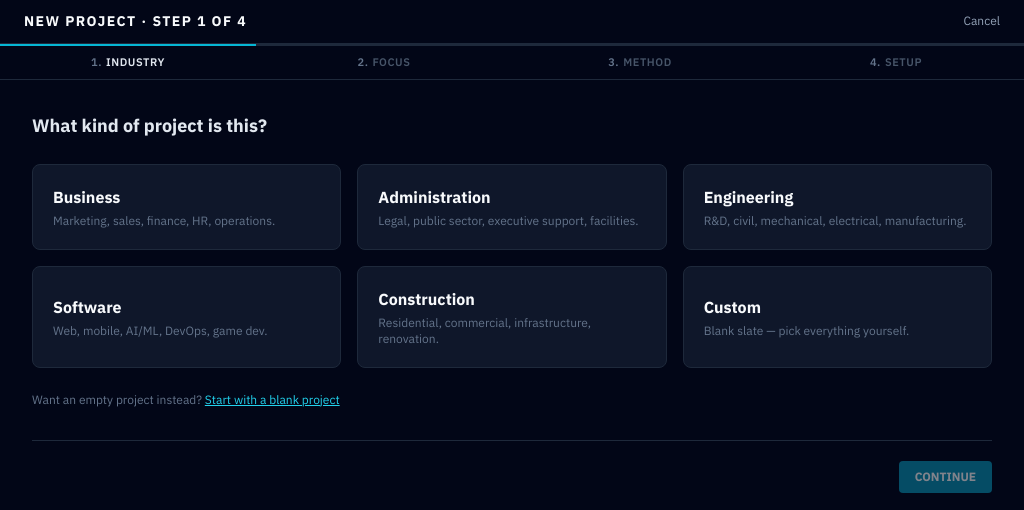
Test: ProjectLaunchpad blank project › returns to the guided setup
Step 1. Click the button "Start with a blank project" → (272, 400), box 205,392 -> 340,408
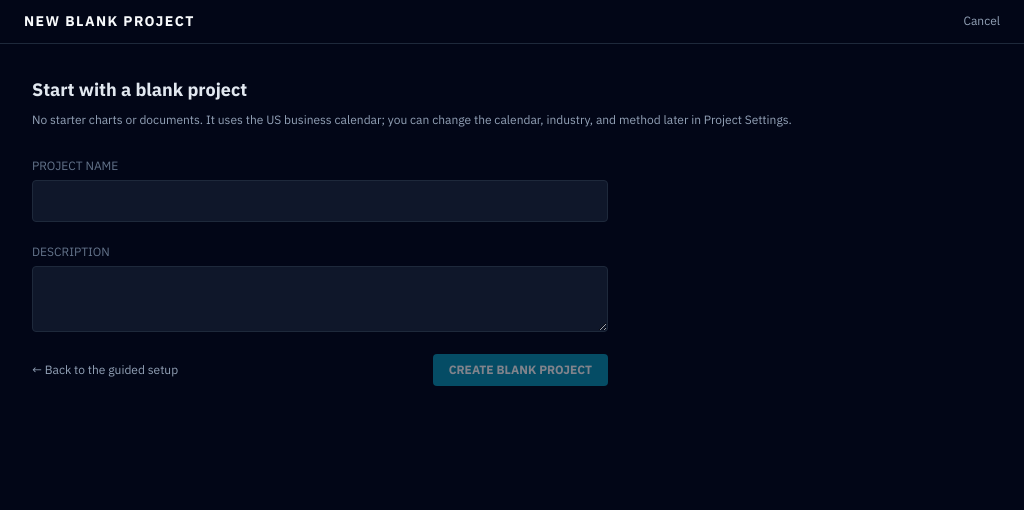
Step 2. Click the button "← Back to the guided setup" → (105, 370), box 32,362 -> 178,378
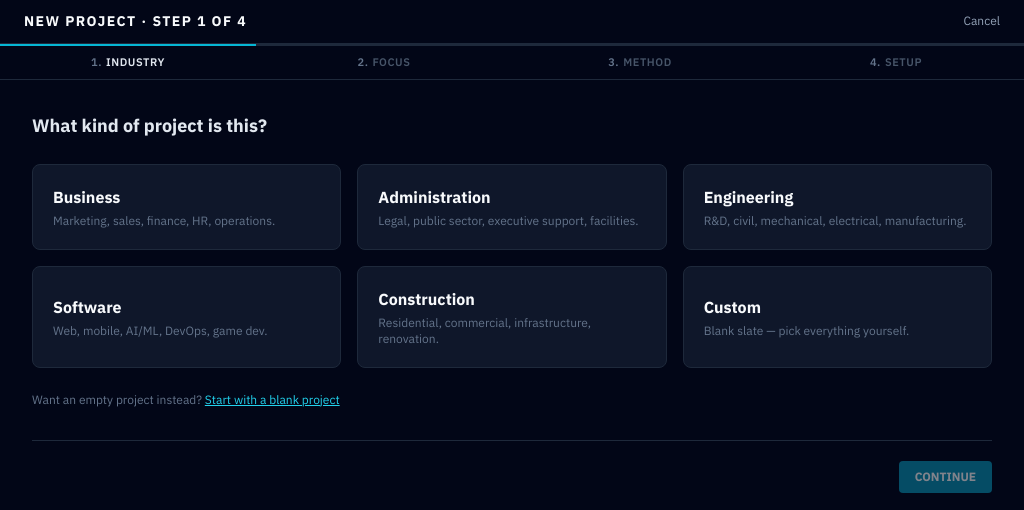
Check: the heading "What kind of project is this?" is shown, box 32,114 -> 267,136
